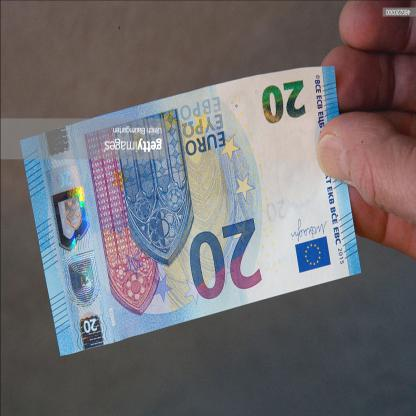euro_banknote: (24, 95, 369, 316)
